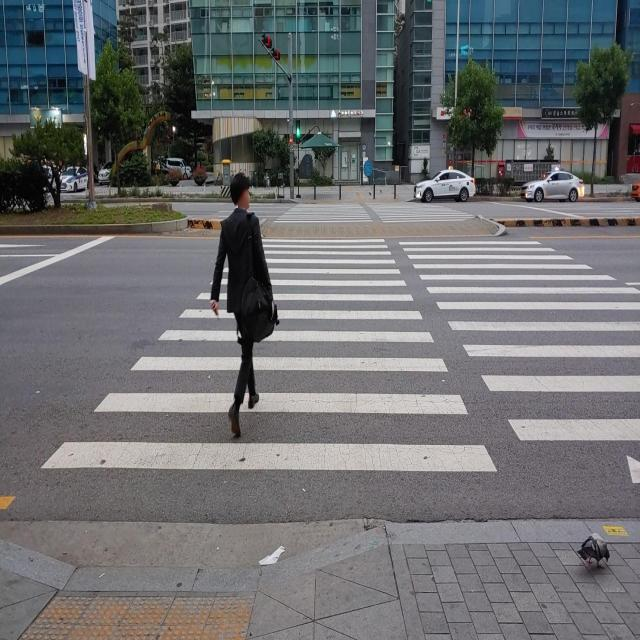횡단보도: (37, 234, 637, 489)
